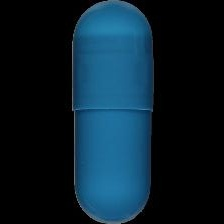68151-4487: (0, 0, 224, 224)
